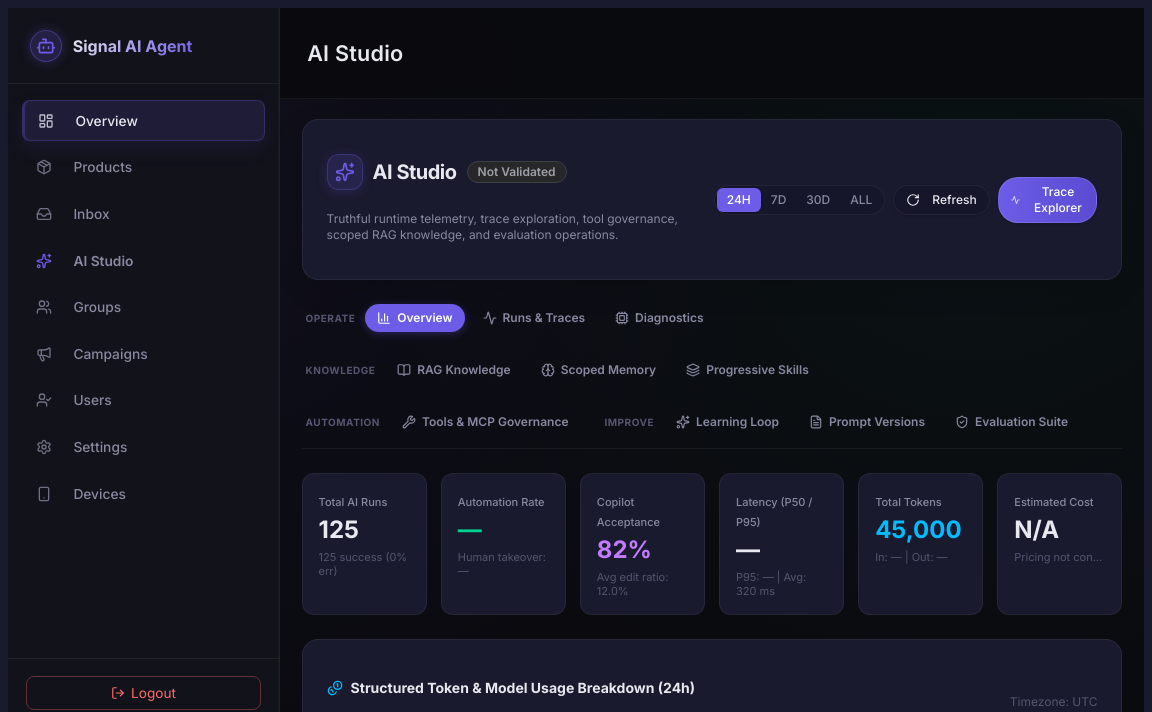
Test: AI Platform v0.4 UI Components › renders AIStudioPage tabs and switches views
Expected: the text "125" is shown, [319, 515, 359, 544]
Expected: the text "82%" is shown, [597, 535, 652, 564]
Note: Switch to Progressive Skills tab
Click the button "Progressive Skills". click: [748, 370]
box: [674, 356, 821, 384]
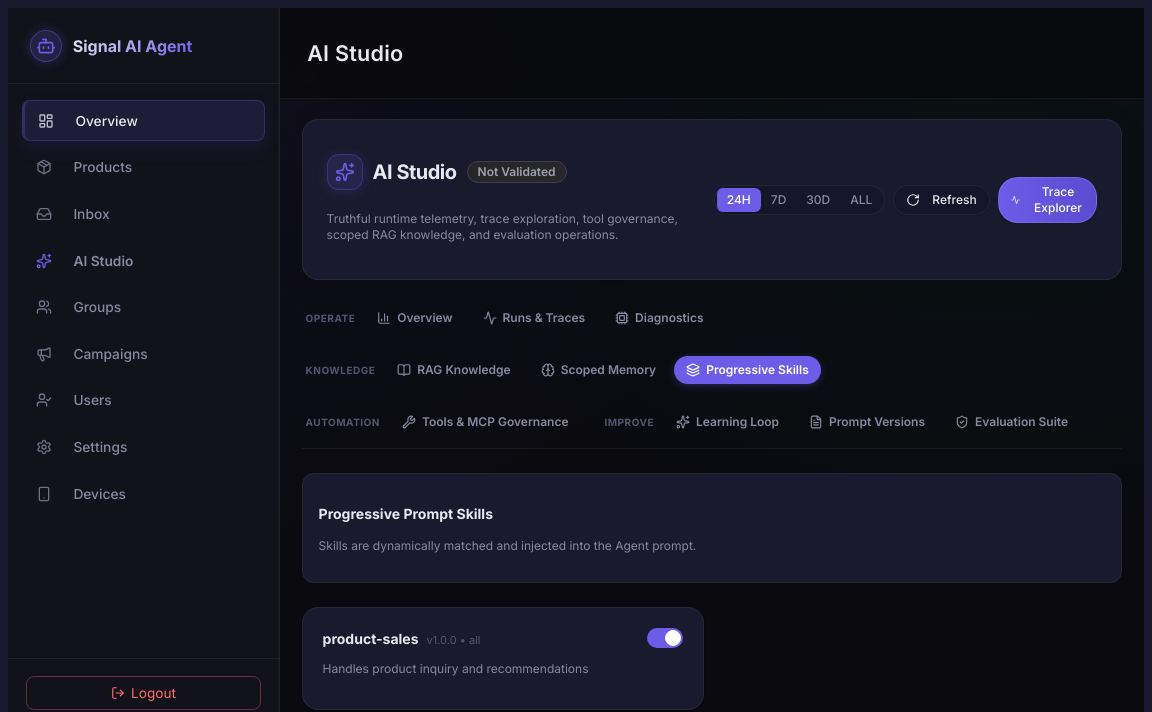
Now the text "product-sales" is shown, box [323, 630, 418, 647]
Now the text "Handles product inquiry and recommendations" is shown, box [323, 661, 588, 676]
